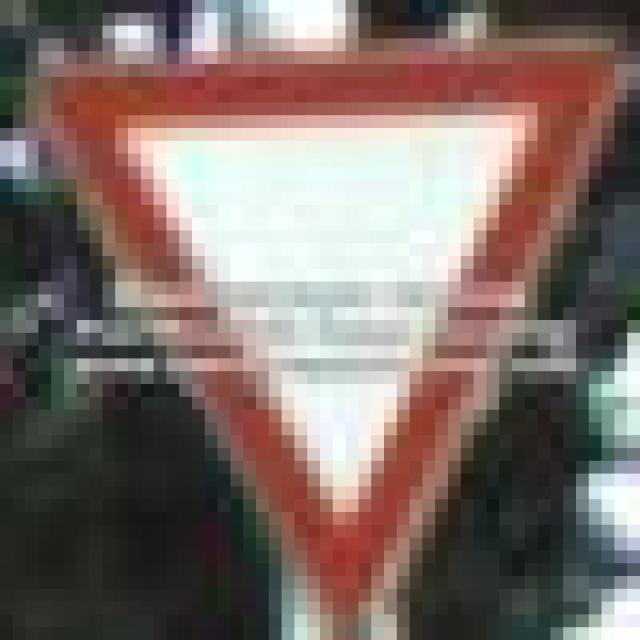gap_in_median: (26, 38, 614, 614)
